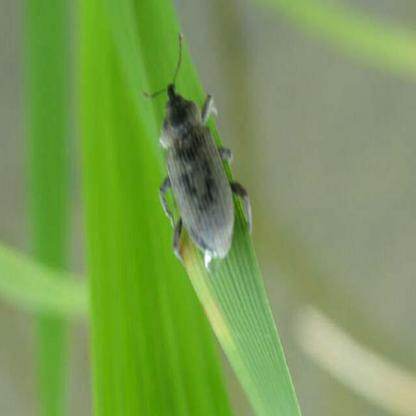rice-bug: (152, 62, 246, 261)
